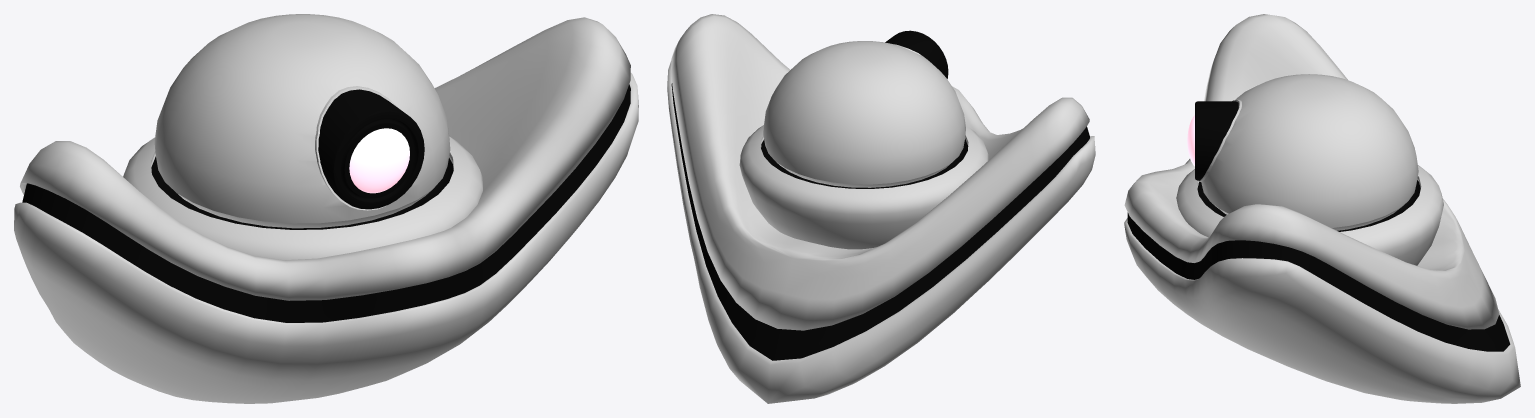
Rendered from maincharacter_malware.fbx.
3 renders of one model, left to right at view 1: azimuth 30°, elevation 25°; view 2: azimuth 150°, elevation 25°; view 3: azimuth 270°, elevation 25°, orthographic. The views are drawn at different scales.
Visible parts, largest first — view 1: 球.003; view 2: 球.003; view 3: 球.003.
Boxes of the visible parts, x1,y1,x2,y2 form: 球.003: [14, 14, 638, 403]; 球.003: [667, 14, 1095, 403]; 球.003: [1124, 14, 1520, 403].
Bounding box in the file's own units: 3.74 × 2.44 × 2.9.
